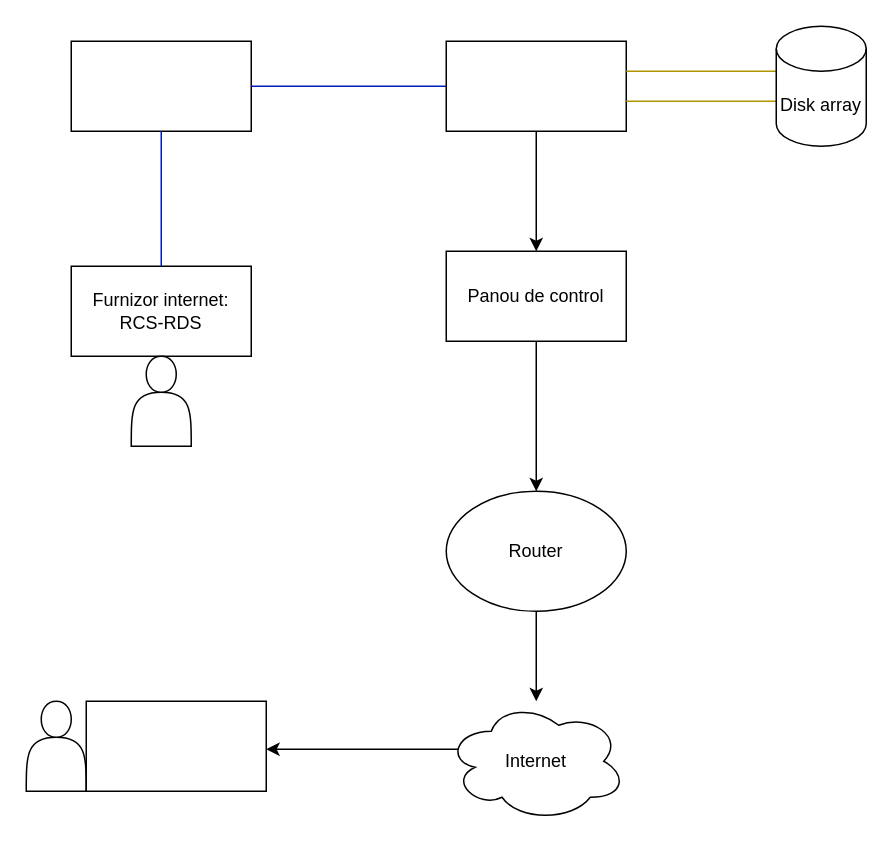
Some shapes in this 893 by 848 pixel diagram are drawn without their labels. Here are the shapes that lost their labels. From the top down, the centre of each, then its label:
point (160, 85): Server de internet
point (535, 85): Server care urmareste traficul de interet
point (175, 745): Beneficiar: Viman Darius-Marcian Laptop
